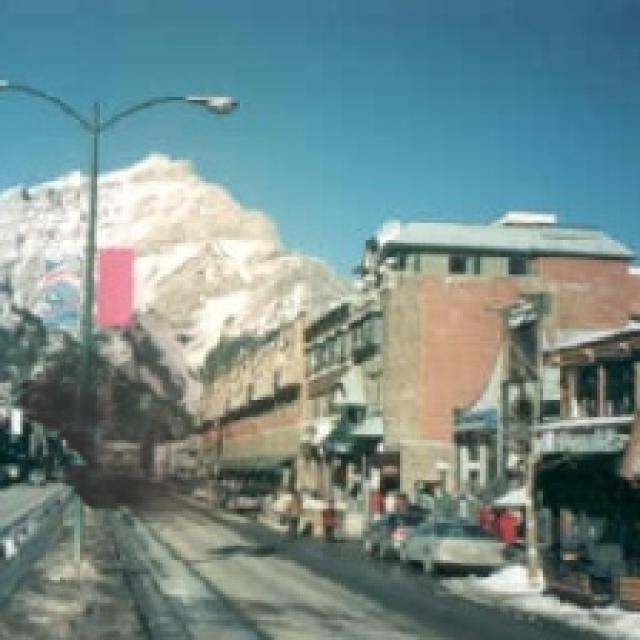smoke: (6, 300, 277, 531)
